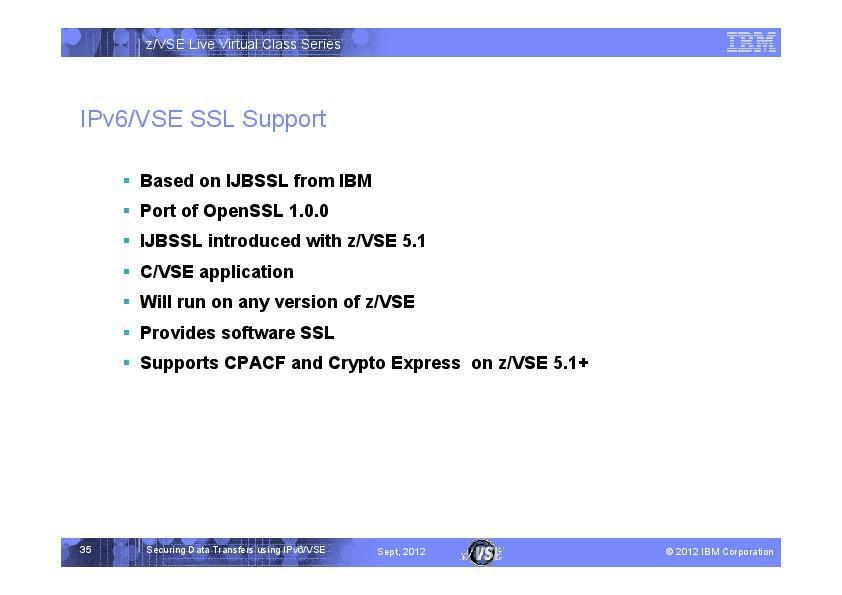paragraph: (115, 156, 621, 390)
subtitle: (72, 99, 344, 139)
title: (135, 27, 356, 59)
